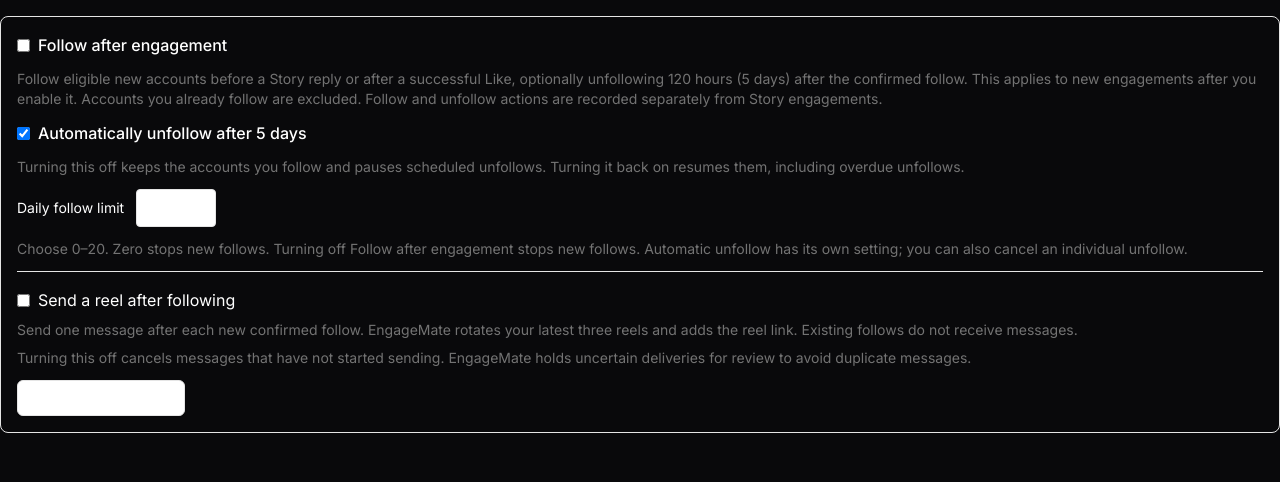
Test: shows save failures without claiming settings were saved
Click the button "Save follow settings" at point(101, 398), box x1=17 y1=380 x2=185 y2=416
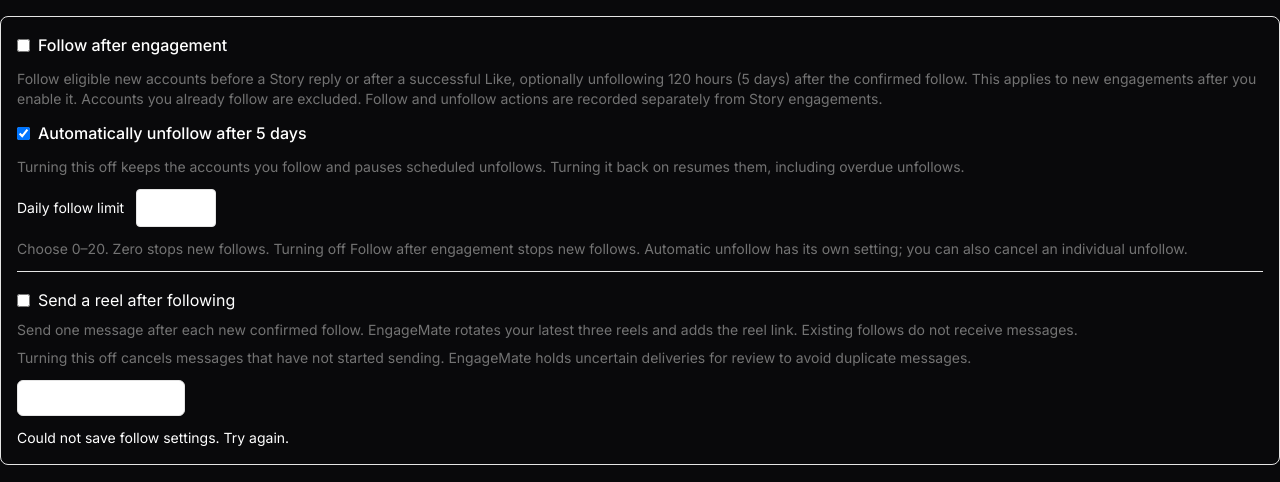
Expected: the message "Could not save follow settings. Try again." is shown, x1=17 y1=429 x2=289 y2=446
